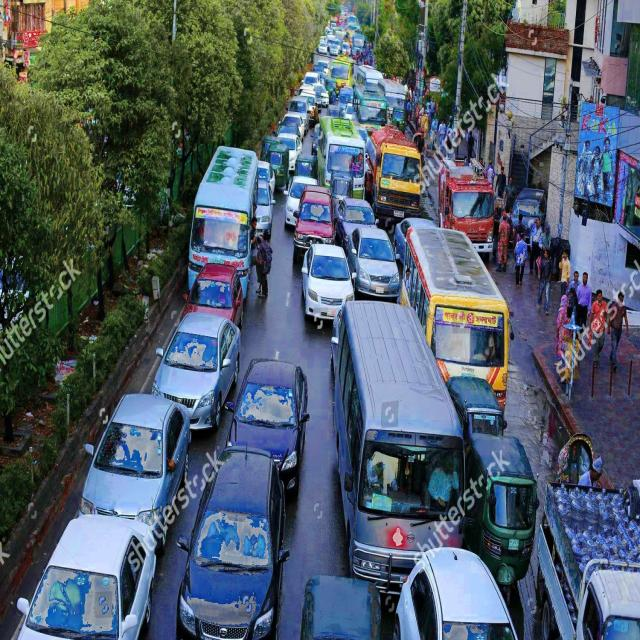black: (182, 444, 282, 640), (227, 353, 302, 494)
maroon: (181, 260, 245, 342), (294, 184, 337, 261)
silver: (326, 288, 474, 594), (78, 390, 187, 542), (148, 309, 242, 444), (345, 226, 401, 302), (335, 198, 379, 245)
white: (12, 516, 151, 640), (303, 244, 352, 326)
